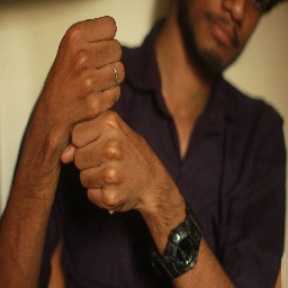G: (42, 14, 154, 224)
